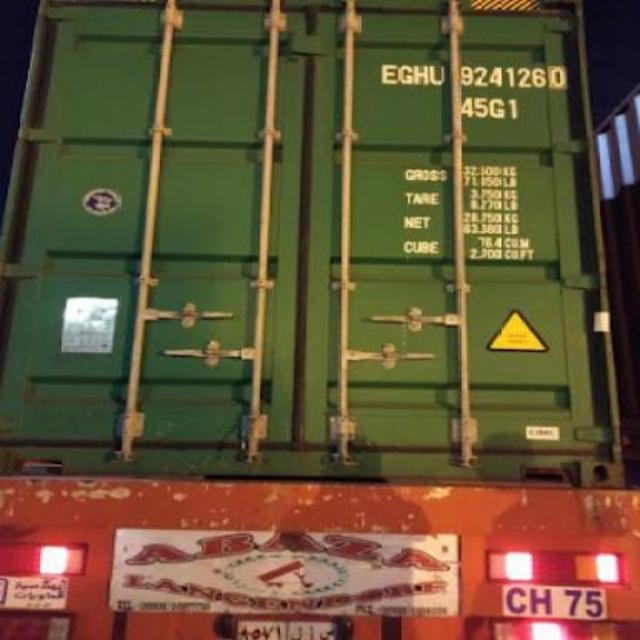0: (552, 66, 568, 88)
1: (504, 61, 518, 93)
2: (516, 62, 532, 92), (472, 64, 490, 90)
4: (488, 66, 504, 90)
6: (534, 59, 546, 89)
9: (461, 59, 474, 86)
E: (382, 59, 396, 86)
G: (398, 62, 416, 88)
H: (412, 60, 428, 90)
U: (426, 59, 448, 89)
